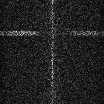wifi: (1, 31, 104, 36)
